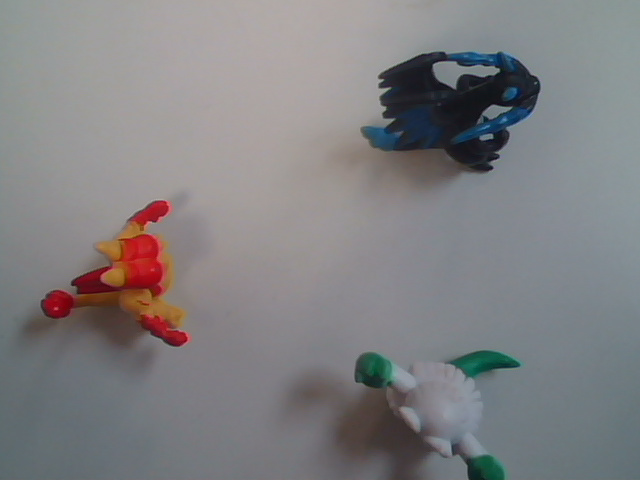abomasnow: (342, 300, 575, 480)
charizard: (350, 19, 571, 229)
magmar: (32, 194, 242, 387)
